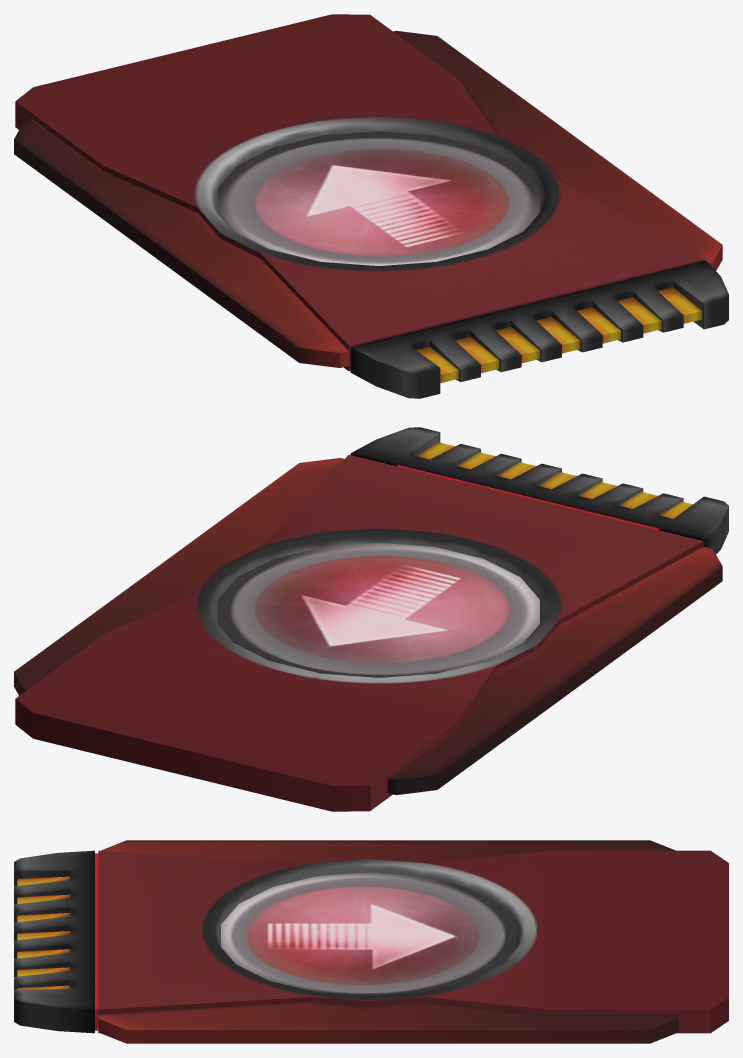
Rendered from JumpPlusChip.FBX.
The picture shows the model from 3 angles, top to bottom: view 1: azimuth 30°, elevation 25°; view 2: azimuth 150°, elevation 25°; view 3: azimuth 270°, elevation 25°; orthographic projection. The views are drawn at different scales.
Visible parts, largest first — view 1: Jump Plus Chip; view 2: Jump Plus Chip; view 3: Jump Plus Chip.
Boxes of the visible parts, x1,y1,x2,y2 form: Jump Plus Chip: (14, 14, 728, 398); Jump Plus Chip: (14, 427, 728, 811); Jump Plus Chip: (14, 840, 728, 1043).
Size of the model in its own units: 116 by 7.29 by 185.
Materials: 1 (1 with a texture image).
